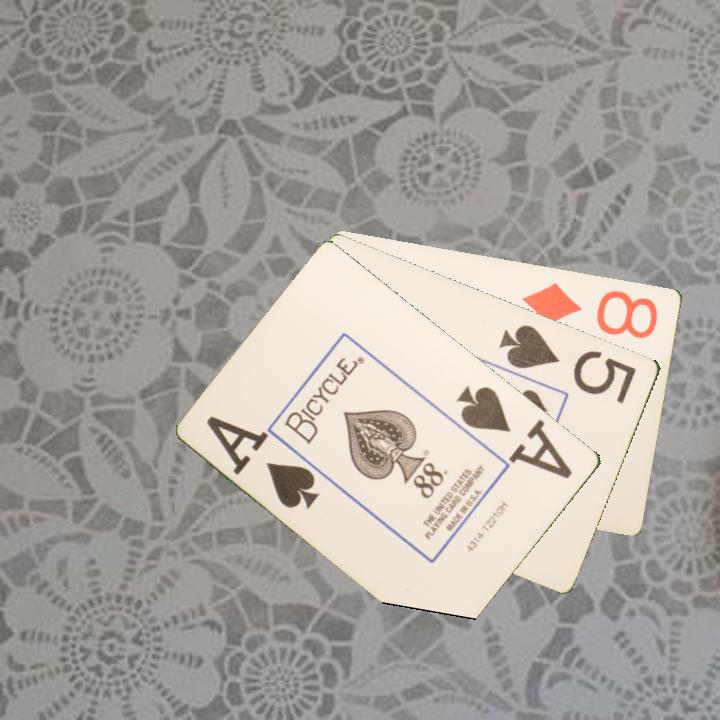5s: (496, 320, 640, 406)
8d: (519, 279, 662, 342)
As: (203, 412, 323, 512), (454, 381, 564, 472)
